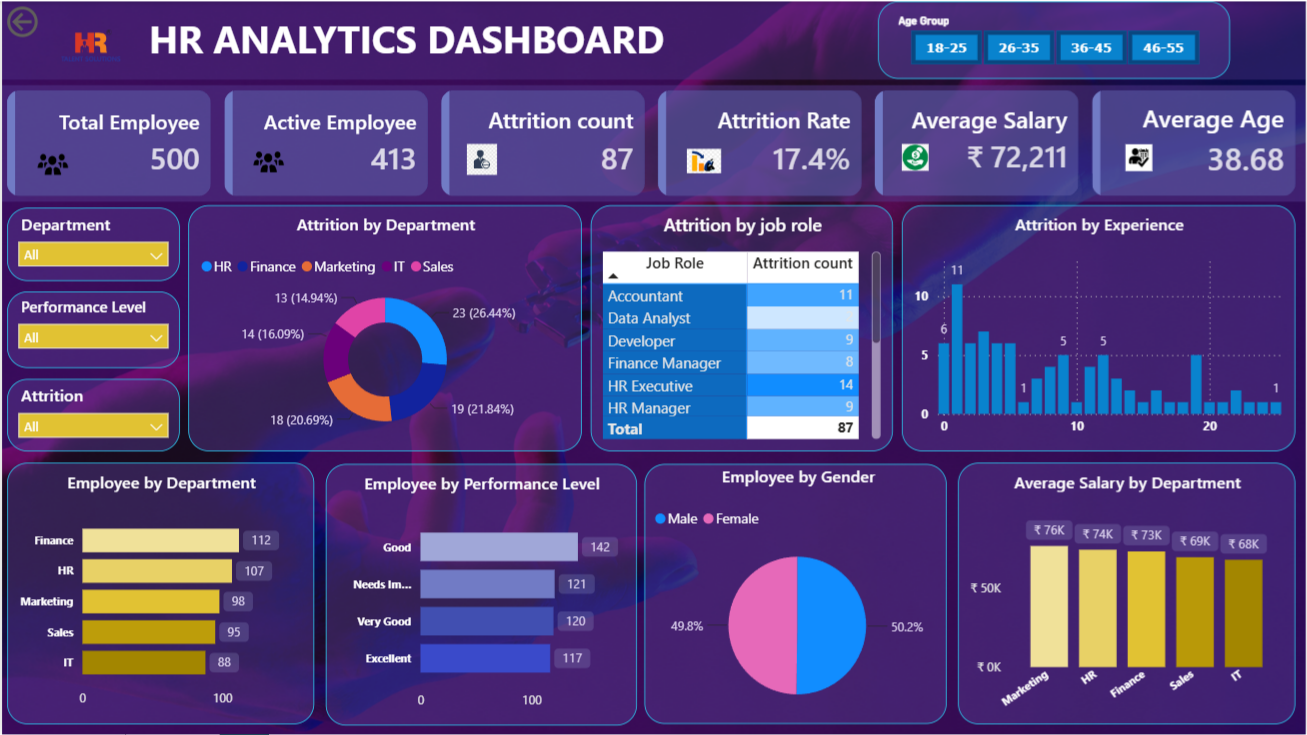

What the dashboard file says about the page in this screenshot:
{"tool":"powerbi","page":{"name":"Page 1","canvas":[1280,720],"ordinal":0},"visuals":[{"type":"textbox","box":[0,0,1280,77],"z":0},{"type":"cardVisual","fields":{"Data":["Employees.Total Employee","Employees.Active Employee","Employees.Employees Left","Employees.Attrition Rate %","Employees.Average Salary","Employees.Average Age"]},"box":[0,82,1280,114],"z":1000},{"type":"clusteredBarChart","title":"Employee by Department","fields":{"Category":["Departments.Department"],"Y":["Employees.Employee Count"]},"box":[4.9,452.8,301.8,256.4],"z":2000},{"type":"pieChart","title":"Employee by Gender","fields":{"Category":["Employees.Gender"],"Y":["Employees.Employee Count"]},"box":[630.7,454,297,255.2],"z":3000},{"type":"clusteredColumnChart","title":"Average Salary by Department","fields":{"Category":["Departments.Department"],"Y":["Employees.Average Salary"]},"box":[938.7,452.8,331.3,256.4],"z":4000},{"type":"image","box":[14.3,10,144.3,67.1],"z":5000},{"type":"image","box":[28.6,144.3,42.9,30],"z":6000},{"type":"image","box":[672.9,140,33.8,33.8],"z":7000},{"type":"image","box":[454.3,140,34.3,30],"z":8000},{"type":"image","box":[241.4,142.9,40,30],"z":9000},{"type":"image","box":[1102.9,135.7,26.2,33.8],"z":10000},{"type":"image","box":[882.9,140,26.2,26.2],"z":11000},{"type":"donutChart","title":"Attrition by Department","fields":{"Category":["Departments.Department"],"Y":["Employees.Attrition count"]},"box":[182.8,200,386.5,241.7],"z":12000},{"type":"pivotTable","title":"Attrition by job role","fields":{"Rows":["Employees.Job Role"],"Values":["Employees.Attrition count"]},"box":[577.9,200,296.9,241.7],"z":13000},{"type":"clusteredColumnChart","title":"Attrition by Experience","fields":{"Y":["Employees.Attrition count"],"Category":["Employees.Experience"]},"box":[883.4,200,386.5,241.7],"z":14000},{"type":"clusteredBarChart","title":"Employee  by Performance Level","fields":{"Category":["Performance.Performance Level"],"Y":["Employees.Employee Count"]},"box":[317.8,454,305.5,256.4],"z":15000},{"type":"slicer","fields":{"Values":["Departments.Department"]},"box":[5,202.5,169.3,72],"z":16000},{"type":"slicer","fields":{"Values":["Employees.Age Group"]},"box":[860.1,0,345.7,75.7],"z":17000},{"type":"slicer","fields":{"Values":["Performance.Performance Level"]},"box":[4.9,284.7,169.3,74.8],"z":17001},{"type":"slicer","fields":{"Values":["Employees.Attrition"]},"box":[4.9,370.6,169.3,71.2],"z":17002},{"type":"actionButton","box":[0,0,100,40],"z":17003}]}

Visuals, with their boxes in screenshot pixels (x1, y1, x2, y2), scaled from the page's 1280x720 canvas onto the 1307x735 screenshot:
textbox: [0, 0, 1306, 79]
cardVisual - Employees.Total Employee x Employees.Active Employee: [0, 84, 1306, 200]
"Employee by Department" clusteredBarChart: [5, 462, 313, 724]
"Employee by Gender" pieChart: [644, 463, 947, 724]
"Average Salary by Department" clusteredColumnChart: [959, 462, 1297, 724]
image: [15, 10, 162, 79]
image: [29, 147, 73, 178]
image: [687, 143, 722, 177]
image: [464, 143, 499, 174]
image: [246, 146, 287, 177]
image: [1126, 139, 1153, 173]
image: [902, 143, 928, 170]
"Attrition by Department" donutChart: [187, 204, 581, 451]
"Attrition by job role" pivotTable: [590, 204, 893, 451]
"Attrition by Experience" clusteredColumnChart: [902, 204, 1297, 451]
"Employee  by Performance Level" clusteredBarChart: [325, 463, 636, 725]
slicer - Departments.Department: [5, 207, 178, 280]
slicer - Employees.Age Group: [878, 0, 1231, 77]
slicer - Performance.Performance Level: [5, 291, 178, 367]
slicer - Employees.Attrition: [5, 378, 178, 451]
actionButton: [0, 0, 102, 41]
